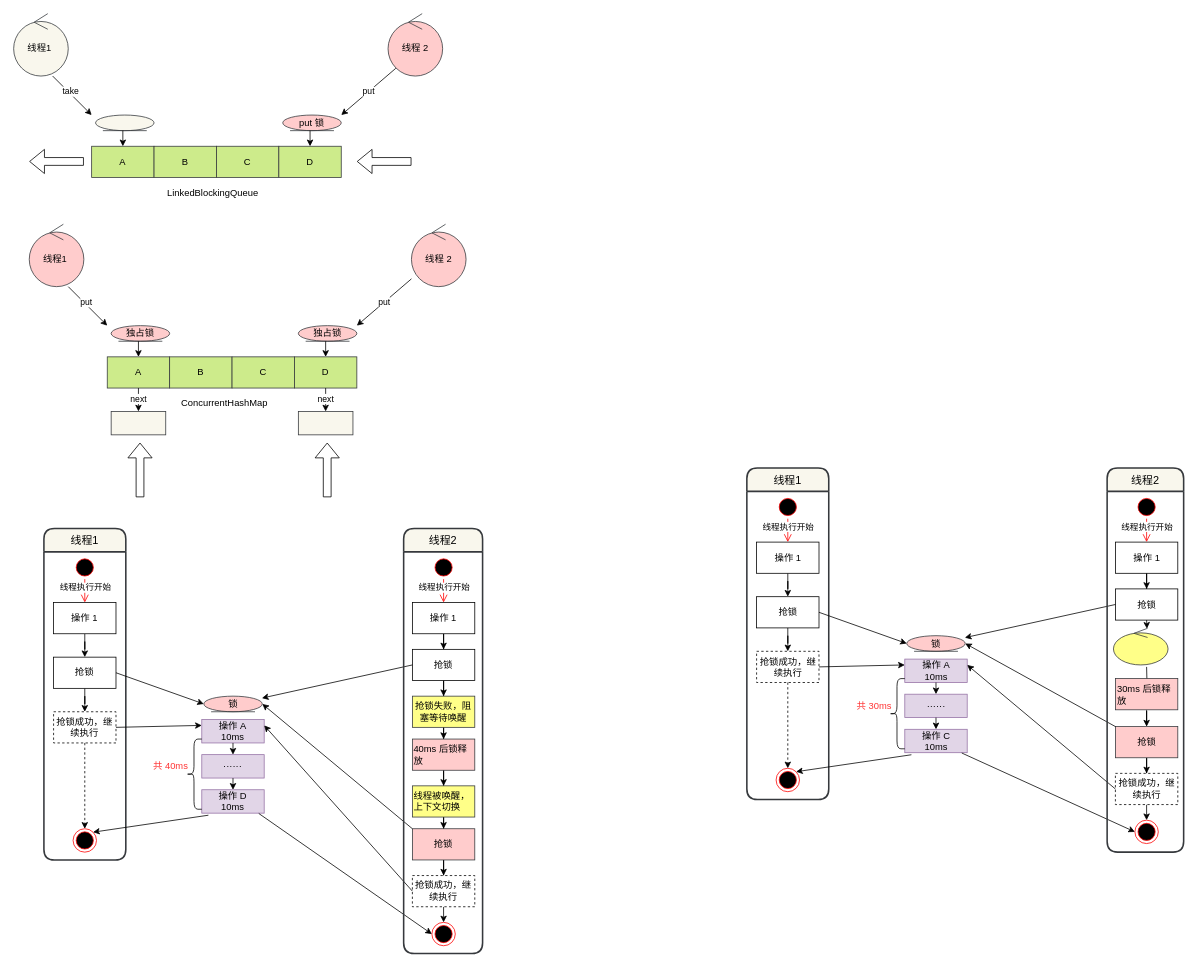
This 1198x968 diagram has some shape labels left out. Here are the shapes that lost their labels. From the top down, the centre of each, then its label:
At (x=124, y=122): "take 锁".
At (x=138, y=423): "A-1".
At (x=325, y=423): "D-1".
At (x=1140, y=646): "抢锁失败，自旋重试".
